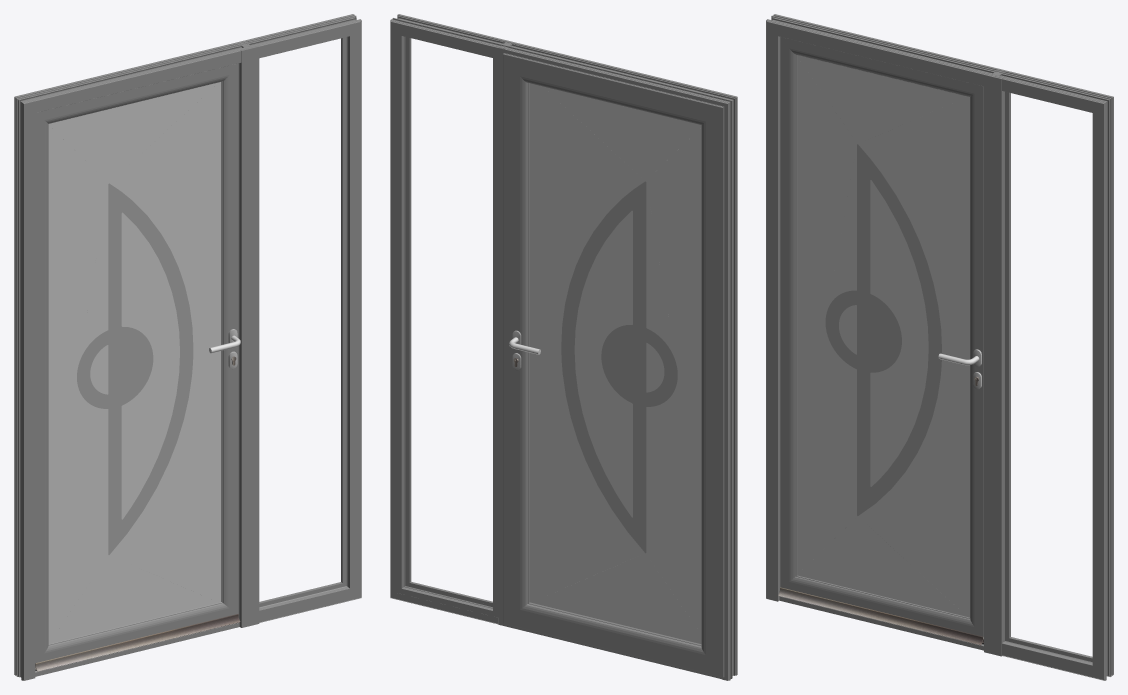
The picture shows the model from 3 angles, left to right: view 1: azimuth 30°, elevation 25°; view 2: azimuth 150°, elevation 25°; view 3: azimuth 330°, elevation 25°; orthographic projection.
Parts seen in each view (by area): view 1: fosco_2, aroFixo, aroMovel, transparente_2, montanteCentral, bite, borracha, escovas, rodaPe; view 2: fosco_2, aroMovel, aroFixo, transparente_2, bite, montanteCentral, borracha, rodaPe; view 3: fosco_2, aroFixo, aroMovel, transparente_2, montanteCentral, bite, escovas, borracha, rodaPe.
Part boxes in pixels (bbox=[...]): fosco_2: bbox=[48, 82, 221, 643]; aroFixo: bbox=[14, 14, 361, 680]; aroMovel: bbox=[35, 63, 238, 663]; transparente_2: bbox=[77, 183, 193, 554]; montanteCentral: bbox=[238, 42, 259, 627]; bite: bbox=[259, 37, 346, 607]; borracha: bbox=[259, 37, 345, 606]; escovas: bbox=[35, 614, 240, 671]; rodaPe: bbox=[35, 622, 239, 676]; fosco_2: bbox=[529, 83, 701, 644]; aroMovel: bbox=[503, 53, 724, 677]; aroFixo: bbox=[390, 14, 737, 680]; transparente_2: bbox=[561, 181, 677, 553]; bite: bbox=[396, 29, 498, 617]; montanteCentral: bbox=[498, 40, 518, 626]; borracha: bbox=[404, 36, 492, 608]; rodaPe: bbox=[505, 624, 721, 679]; fosco_2: bbox=[797, 55, 969, 617]; aroFixo: bbox=[766, 14, 1113, 680]; aroMovel: bbox=[780, 37, 983, 638]; transparente_2: bbox=[825, 144, 941, 515]; montanteCentral: bbox=[984, 70, 1004, 656]; bite: bbox=[1005, 91, 1092, 661]; escovas: bbox=[778, 587, 983, 645]; borracha: bbox=[1006, 92, 1092, 660]; rodaPe: bbox=[779, 596, 983, 650].
Bounding box in the file's own units: 1320 × 2149 × 185.
Materials: 10 (4 with a texture image).
